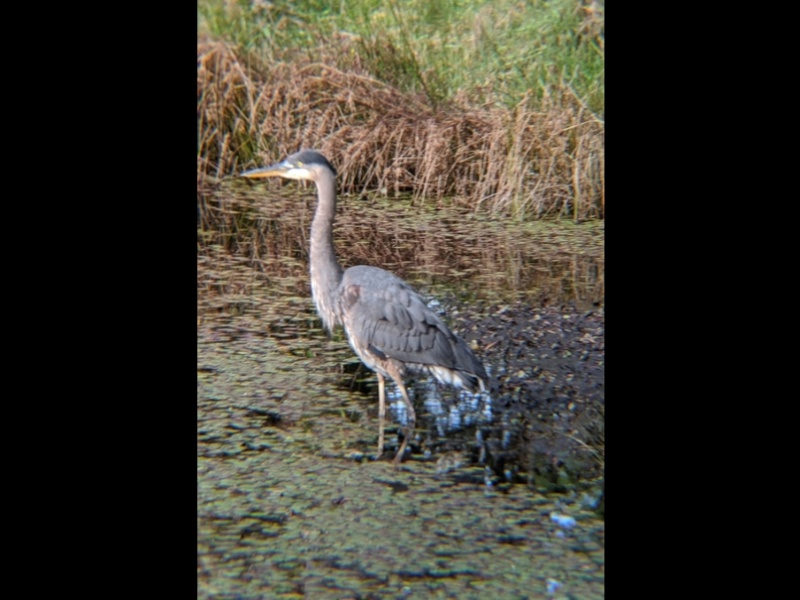heron: (240, 149, 488, 461)
